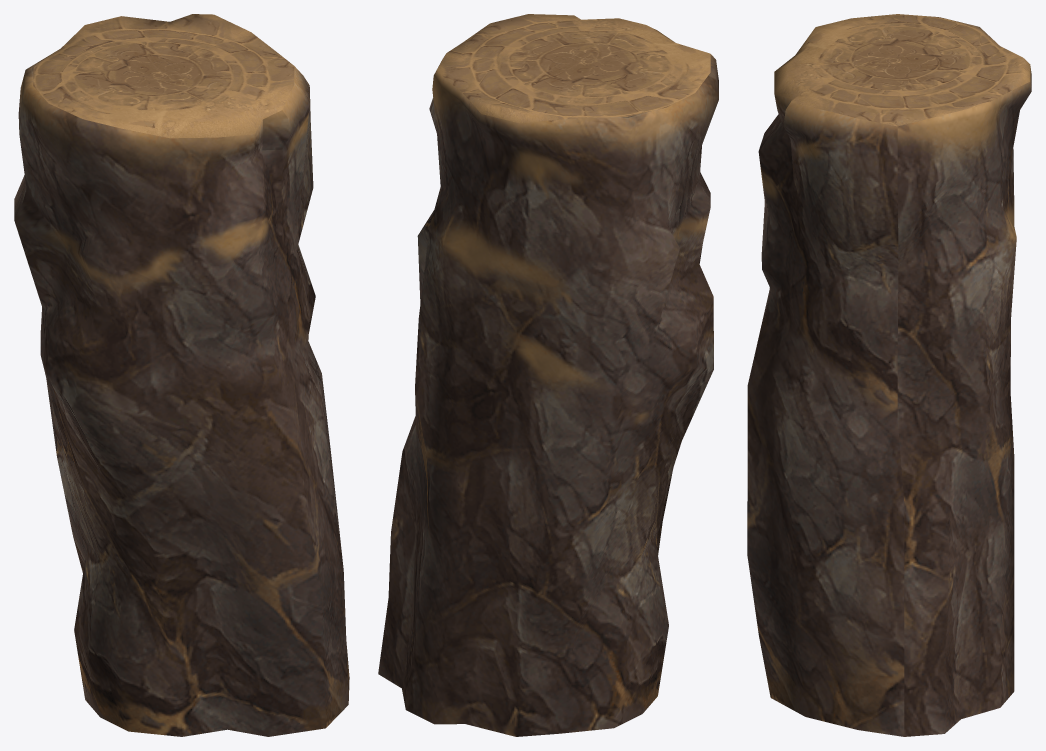
The model's file is sm_dixing_5.FBX.
3 renders of one model, left to right at view 1: azimuth 30°, elevation 25°; view 2: azimuth 150°, elevation 25°; view 3: azimuth 270°, elevation 25°, orthographic. The views are drawn at different scales.
Parts seen in each view (by area): view 1: sm_dixing_5; view 2: sm_dixing_5; view 3: sm_dixing_5.
Part boxes in pixels (x1,y1,x2,y2): sm_dixing_5: (14, 14, 349, 736); sm_dixing_5: (378, 14, 718, 736); sm_dixing_5: (747, 14, 1031, 736).
Bounding box in the file's own units: 6352 × 12591 × 5474.
